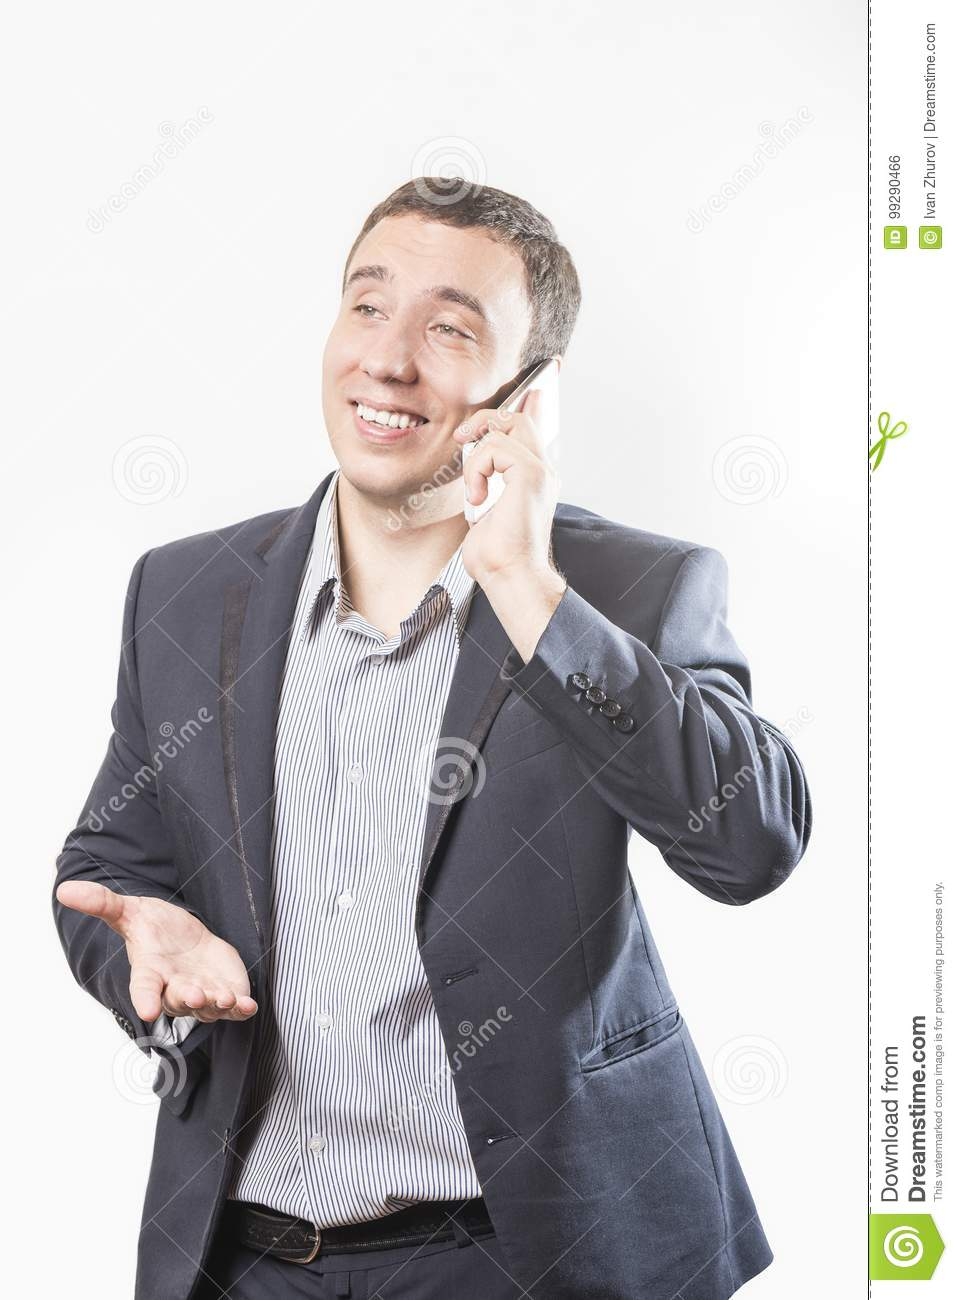phone: (462, 344, 562, 546)
talk: (323, 261, 566, 615)
